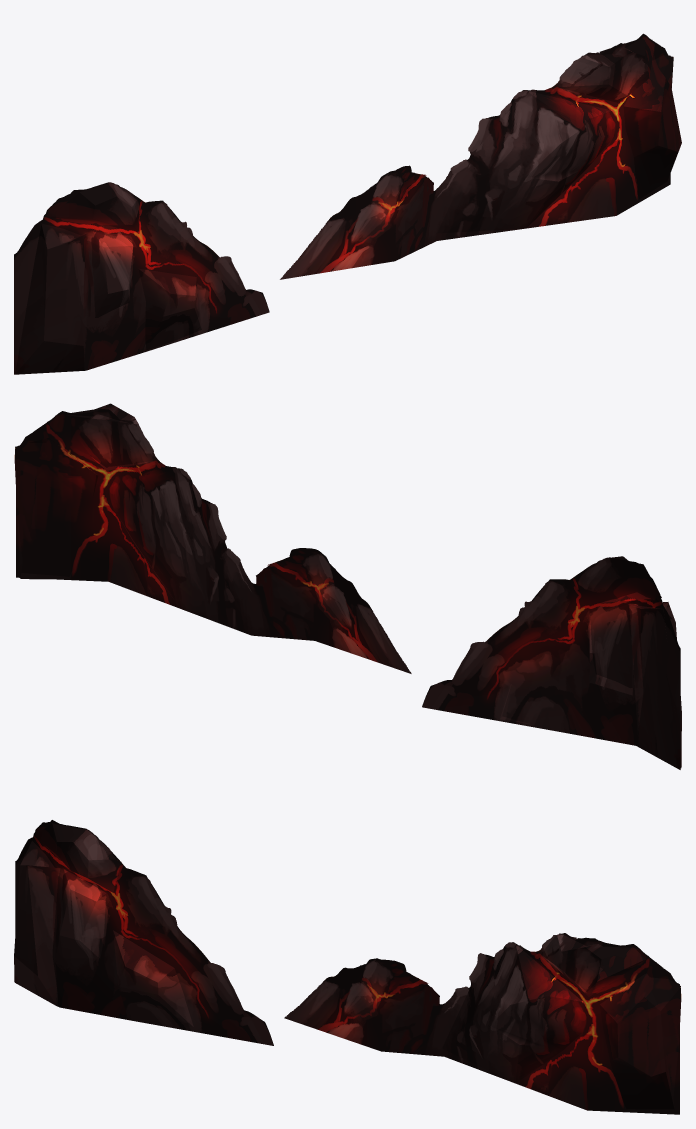
File: RocasPlanoModeladas.FBX
The picture shows the model from 3 angles, top to bottom: view 1: azimuth 30°, elevation 25°; view 2: azimuth 150°, elevation 25°; view 3: azimuth 330°, elevation 25°; orthographic projection.
Parts seen in each view (by area): view 1: Plane002, Plane001; view 2: Plane002, Plane001; view 3: Plane002, Plane001.
Boxes of the visible parts, x1,y1,x2,y2 form: Plane002: (280,33,681,279); Plane001: (14,182,269,374); Plane002: (14,403,411,673); Plane001: (422,556,681,769); Plane002: (284,933,681,1114); Plane001: (14,820,273,1045).
Size of the model in its own units: 31.18 by 9.06 by 2.52.
2 materials, 2 textured.
